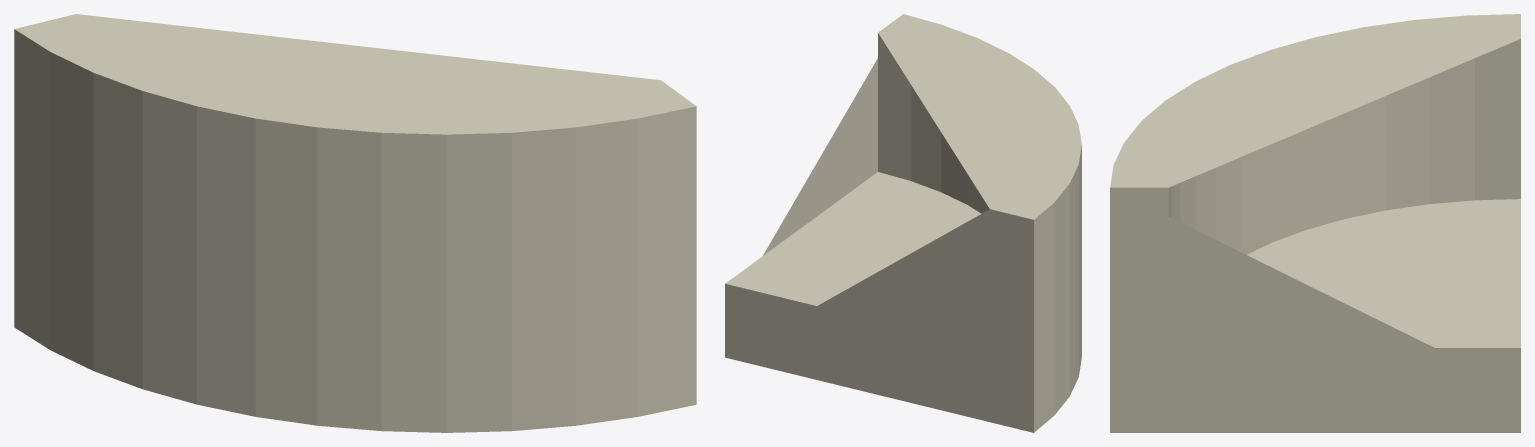
Rendered from roadtile_126.glb.
3 views of the same model, side by side, from view 1: azimuth 30°, elevation 25°; view 2: azimuth 150°, elevation 25°; view 3: azimuth 270°, elevation 25° (orthographic). The views are drawn at different scales.
Parts seen in each view (by area): view 1: Mesh1 Group1 Model; view 2: Mesh1 Group1 Model; view 3: Mesh1 Group1 Model.
Boxes of the visible parts, bbox=[...] form: Mesh1 Group1 Model: bbox=[14, 14, 696, 432]; Mesh1 Group1 Model: bbox=[725, 14, 1081, 432]; Mesh1 Group1 Model: bbox=[1110, 14, 1520, 432].
Size of the model in its own units: 2.62 by 1.73 by 2.62.
